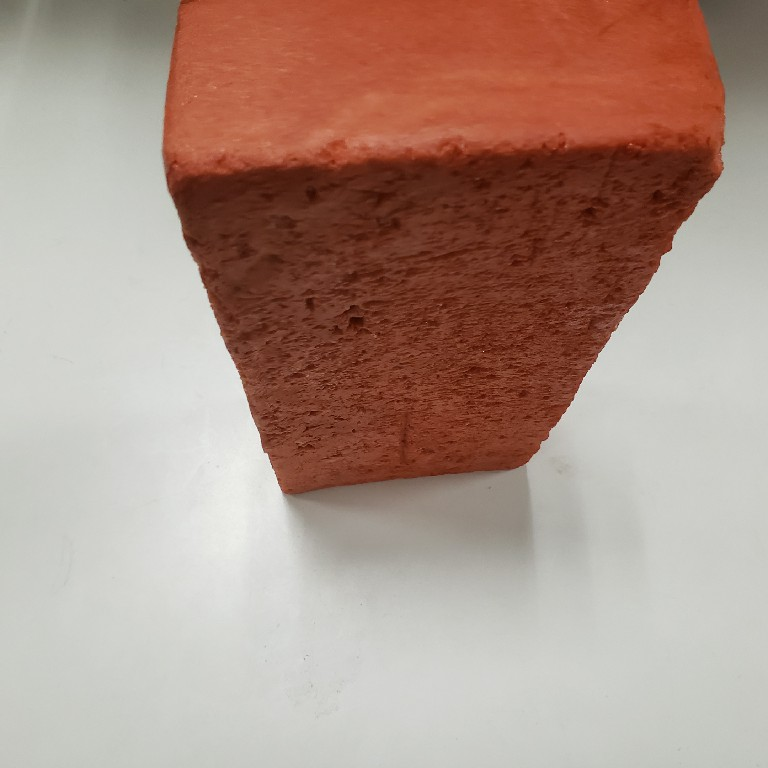brick: (151, 1, 736, 503)
